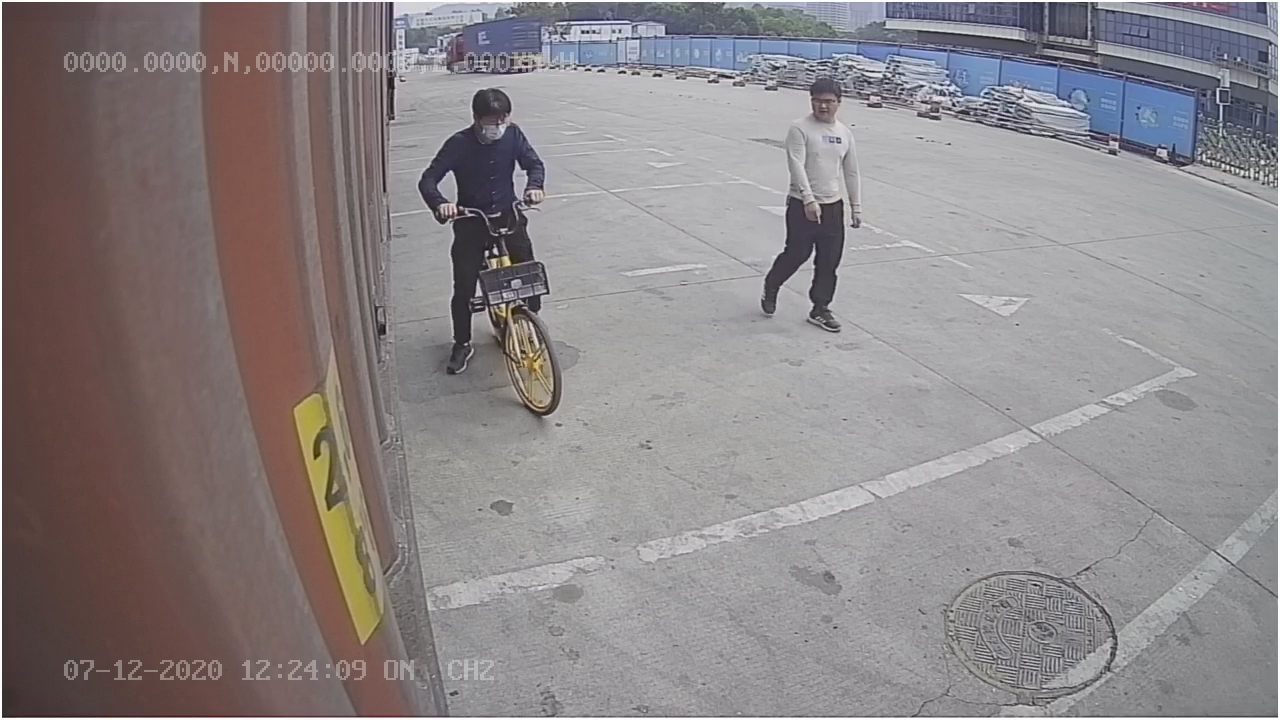person: (751, 75, 866, 334)
